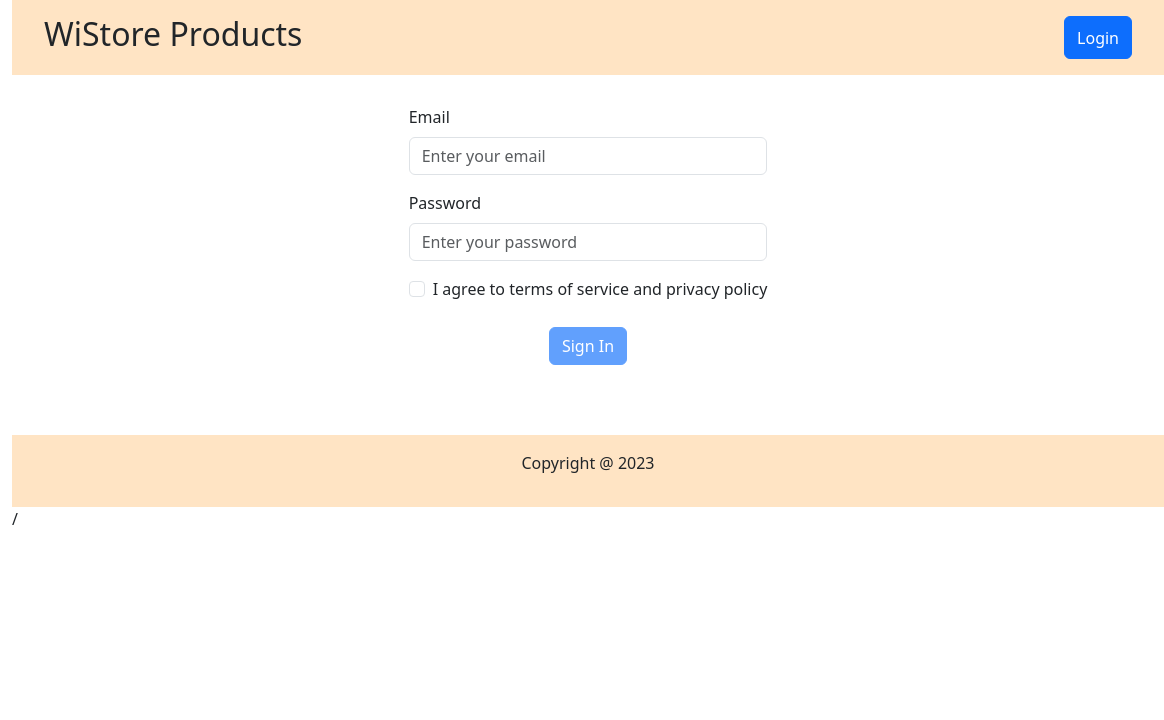
Test case: Form doğru bilgiler ile doldurulunca buton enabled oluyor
Click the button "Login". click: point(1098, 38)
box: [1064,16,1132,59]
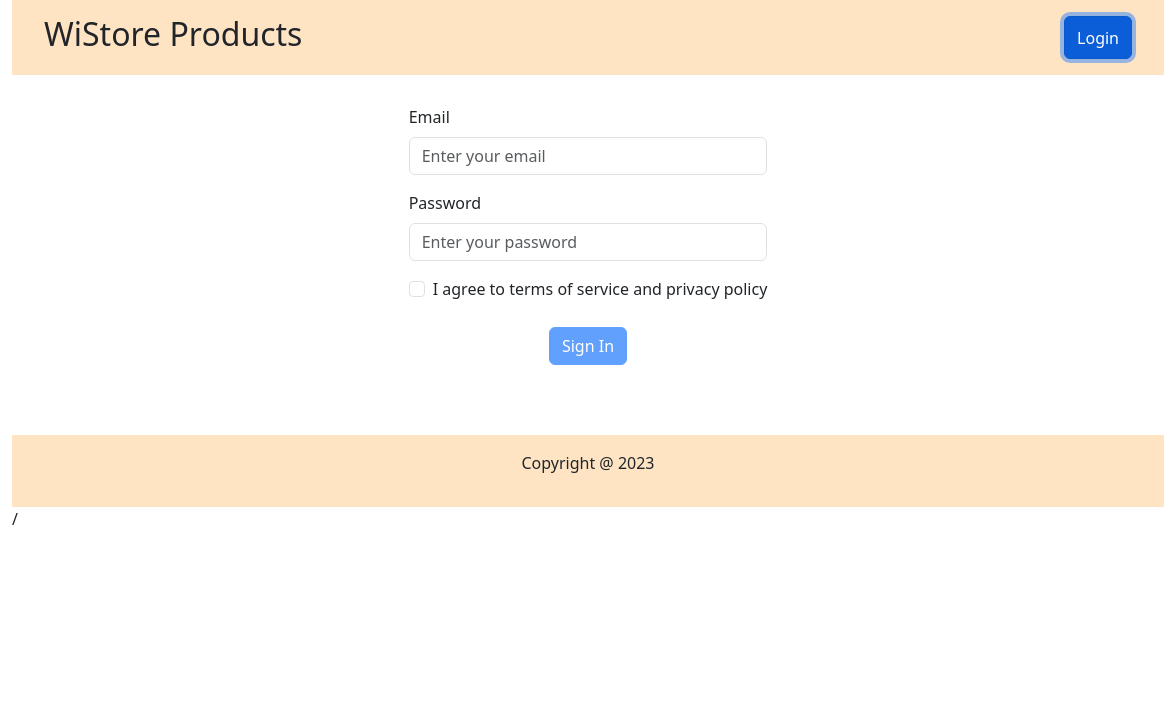
Expected: the button "Sign In" is disabled, [549,327,627,365]
Type "erdem@wit.com.tr" into the field with placeholder "Enter your email". click: point(588, 156)
box: [409,137,767,175]
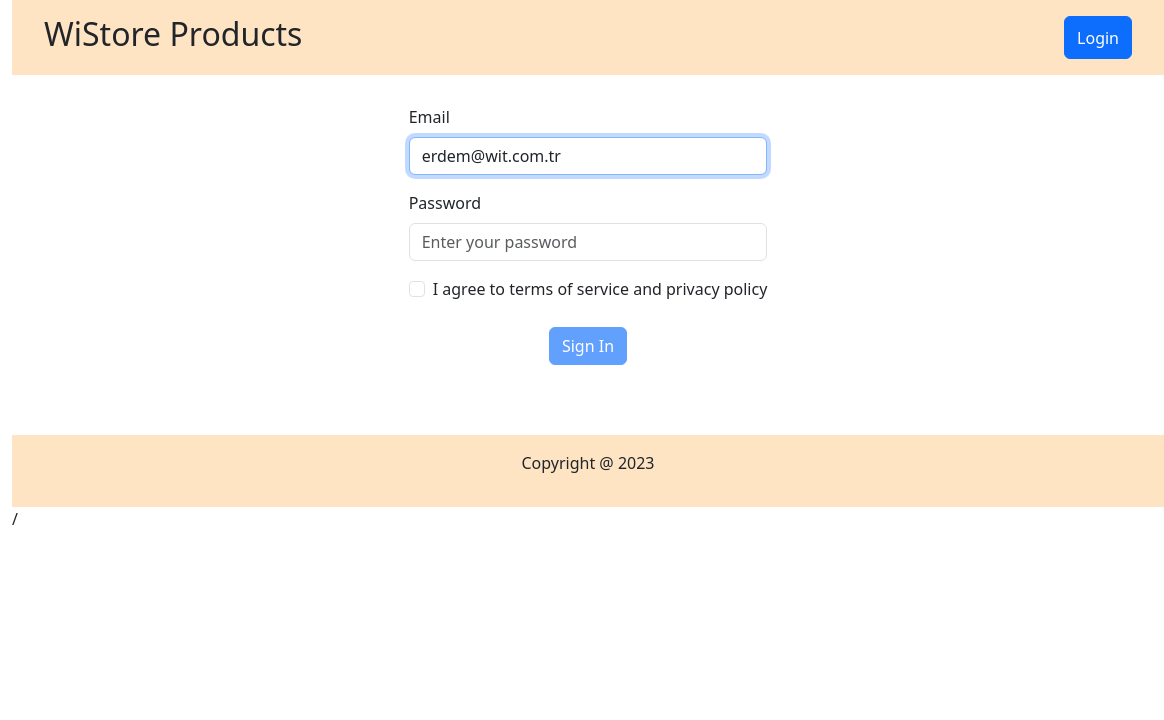
Type "9fxIH0GXesEwH_I" into the password field with placeholder "Enter your password". click: point(588, 242)
box: [409,223,767,261]
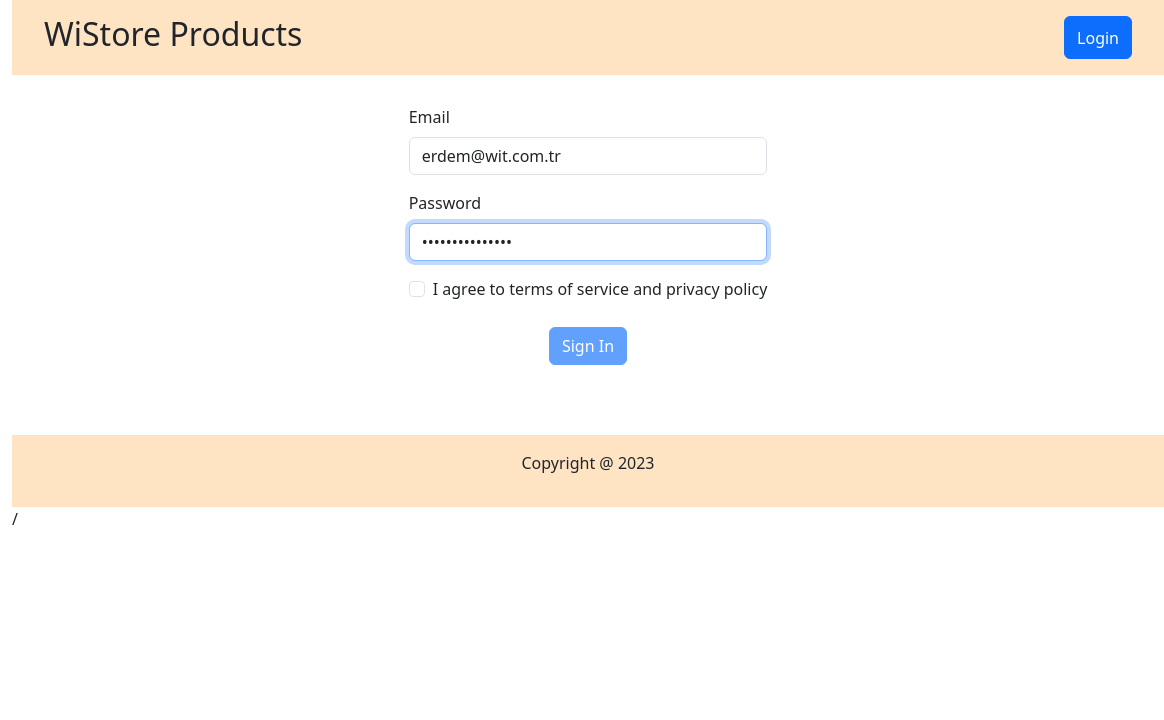
Click the checkbox labelled "I agree to terms of service and privacy policy". click: point(417, 289)
box: [409,281,425,297]
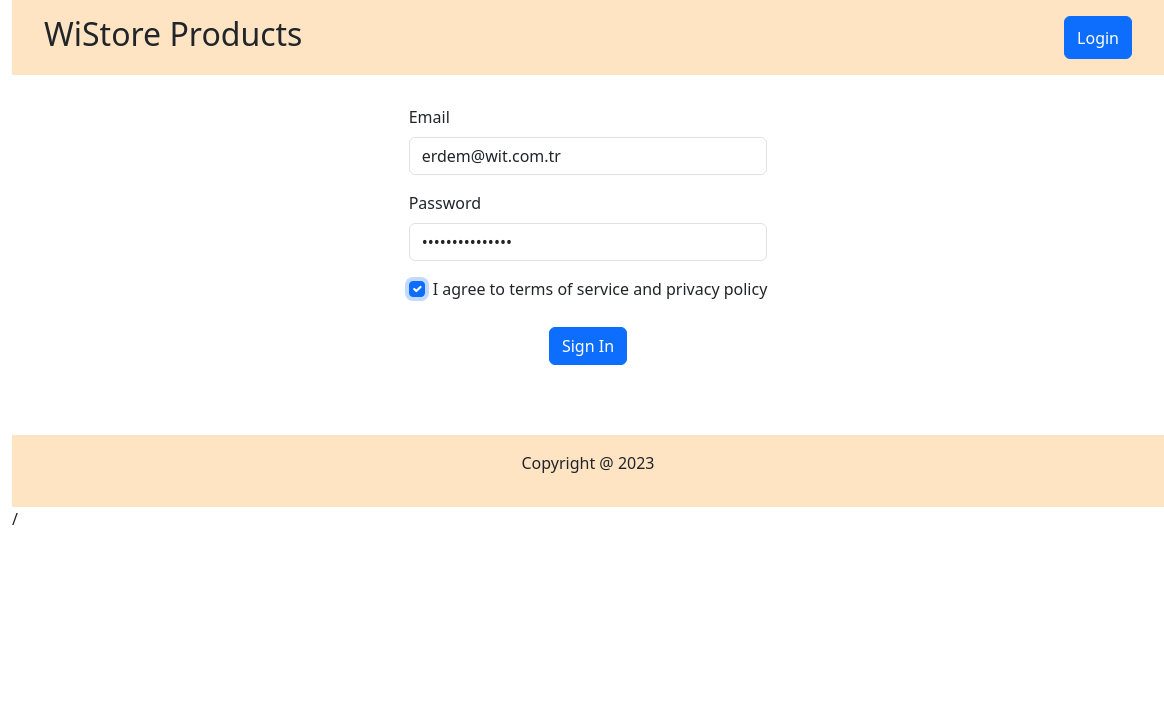
Result: the button "Sign In" is enabled at [549,327,627,365]
